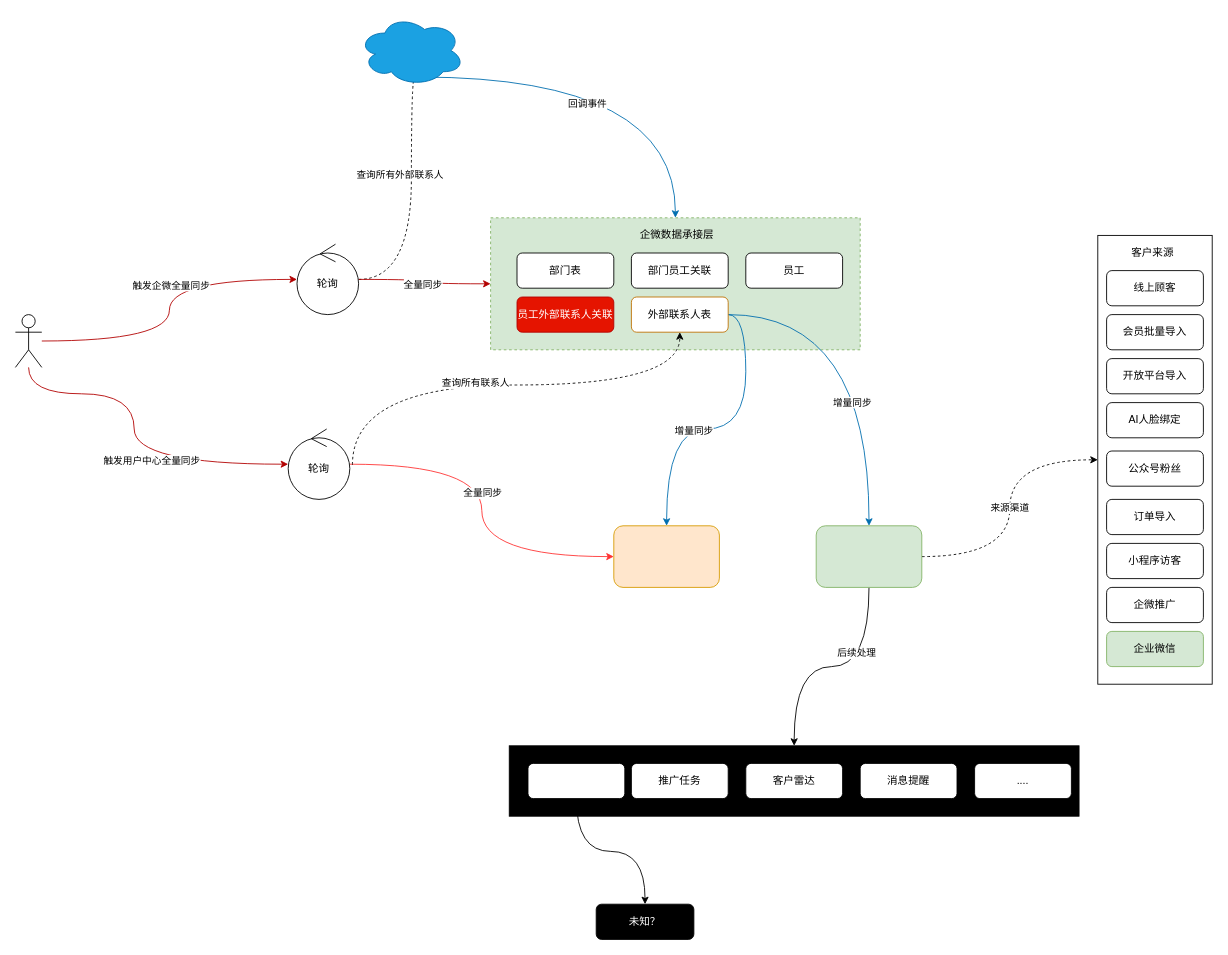
The diagram is 1228 pixels wide and 955 high, and some of its shapes have lost their labels. Here are the shapes that lost their labels. From the top down, the box of each, then its label:
(358, 15, 464, 86): 企微微信
(15, 314, 42, 367): Actor
(613, 525, 719, 587): 用户中心(ONEID)
(815, 525, 922, 587): 客户(70w数据)
(527, 763, 625, 799): 推送mq
